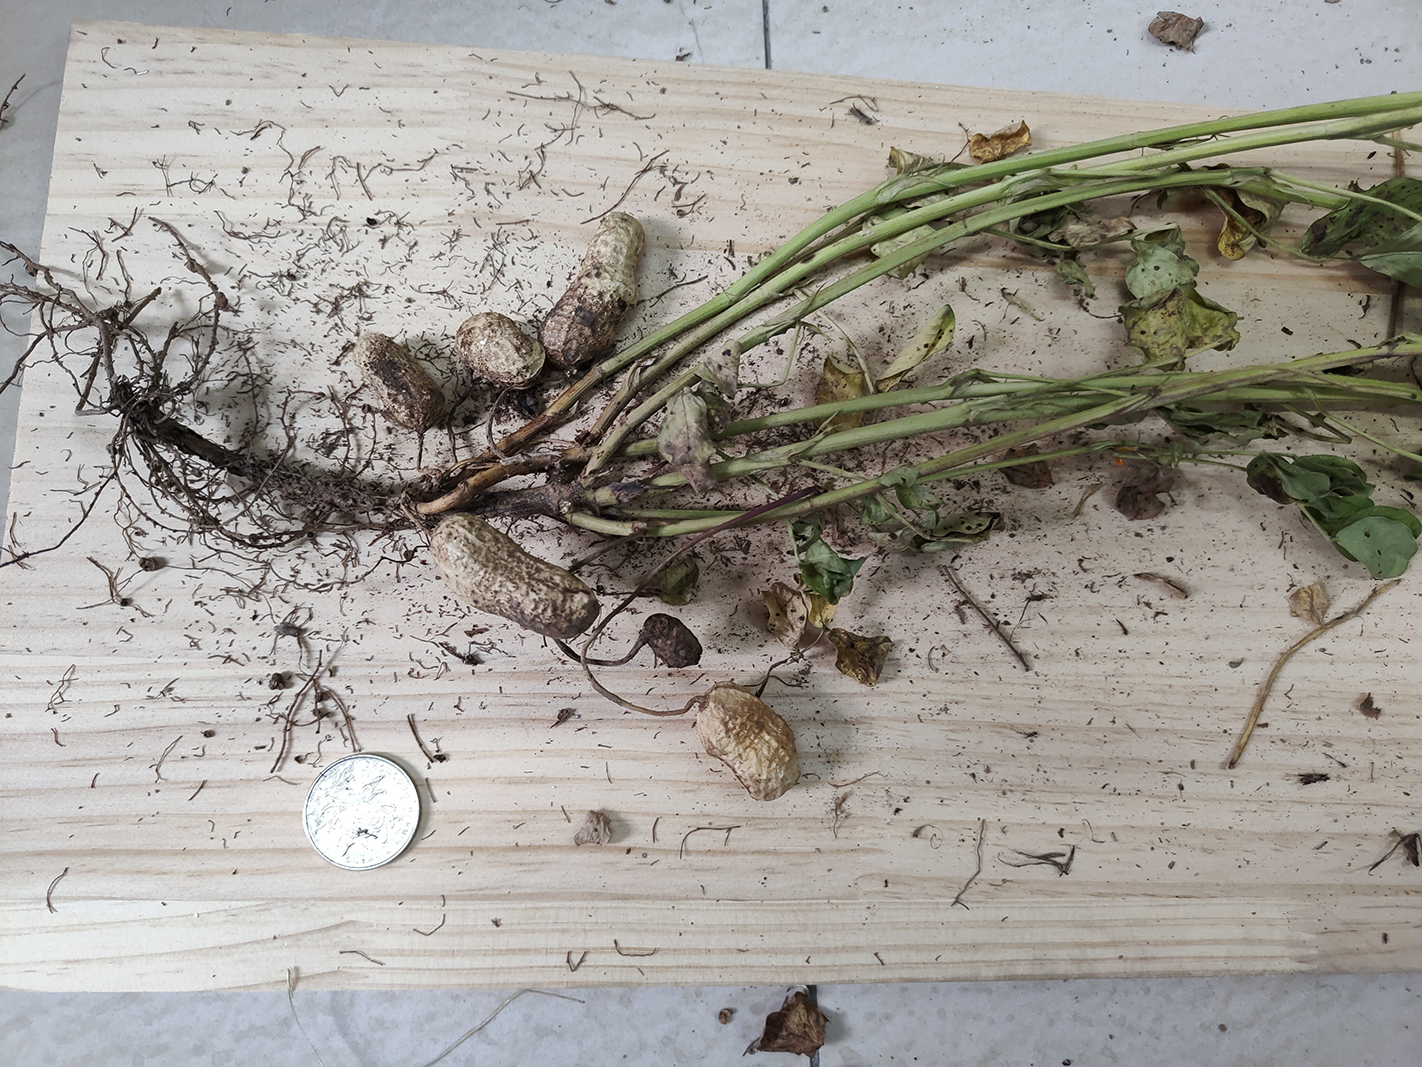h: (428, 512, 600, 637), (543, 208, 645, 373), (696, 687, 799, 799), (457, 314, 545, 388)
l: (356, 332, 442, 428), (643, 615, 703, 669)
